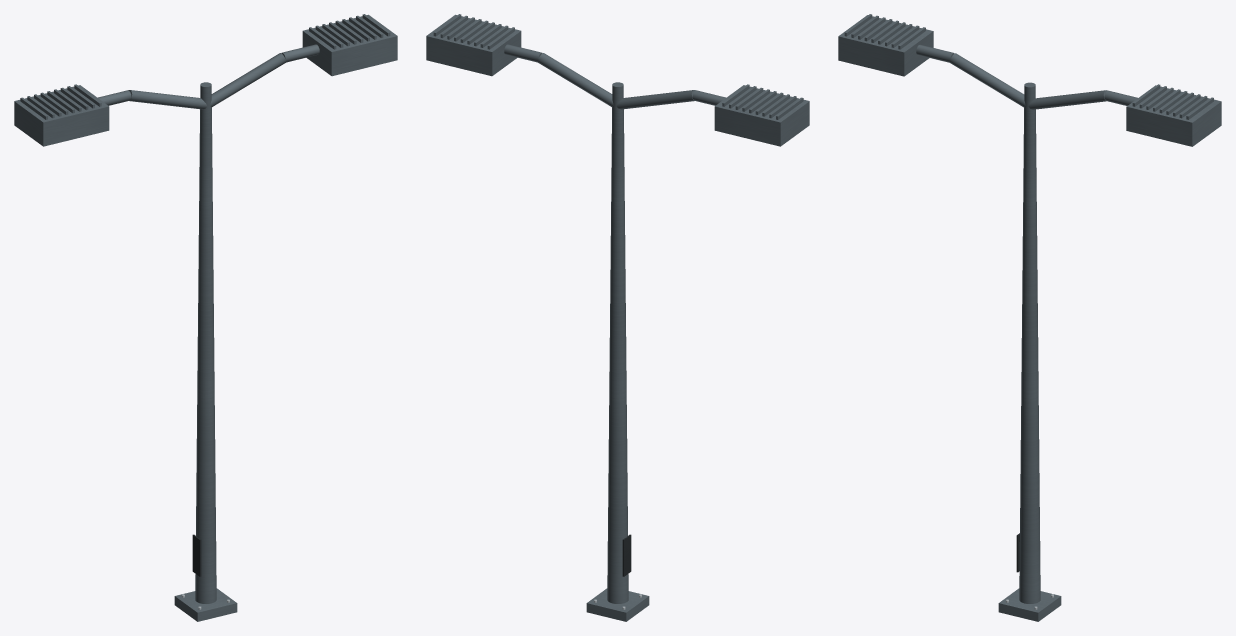
Rendered from twin-lamp.glb.
3 views of the same model, side by side, from view 1: azimuth 30°, elevation 25°; view 2: azimuth 150°, elevation 25°; view 3: azimuth 330°, elevation 25° (orthographic).
Parts seen in each view (by area): view 1: twin-lamp; view 2: twin-lamp; view 3: twin-lamp.
Part boxes in pixels (x1,y1,x2,y2): twin-lamp: [14, 14, 397, 621]; twin-lamp: [426, 14, 809, 621]; twin-lamp: [838, 14, 1221, 621].
Size of the model in its own units: 3.22 by 4.72 by 0.46.
Materials: 4 (4 with a texture image).
